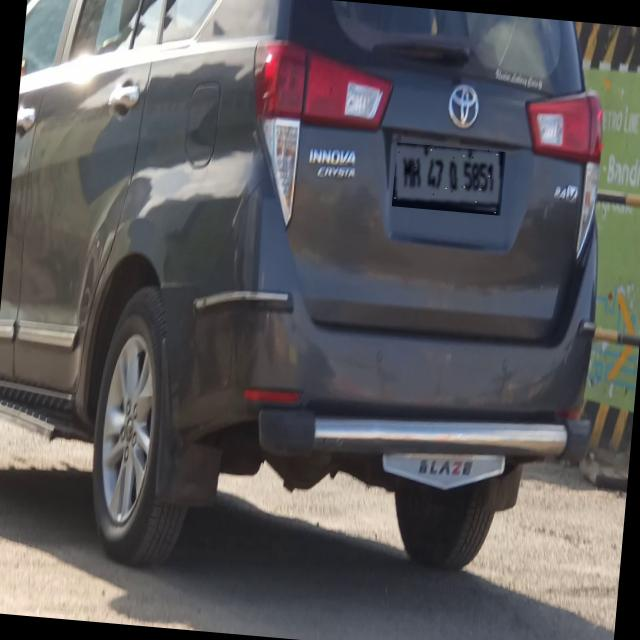Plate: (393, 143, 508, 216)
